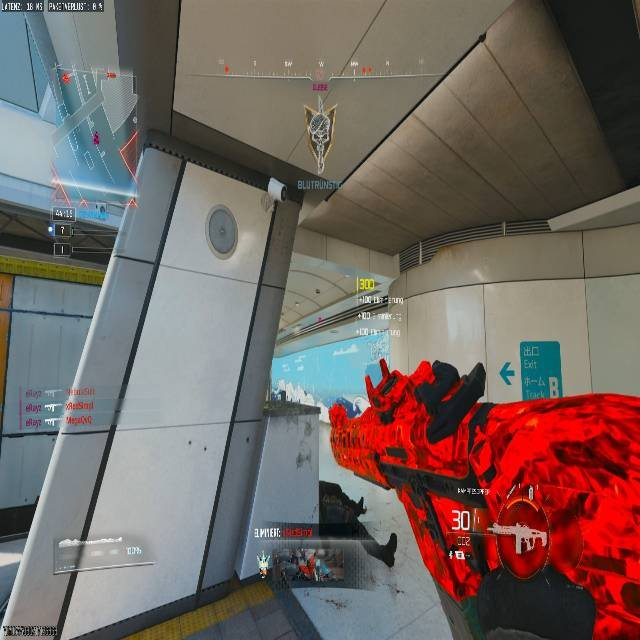player: (326, 356, 429, 562), (302, 103, 335, 171)
